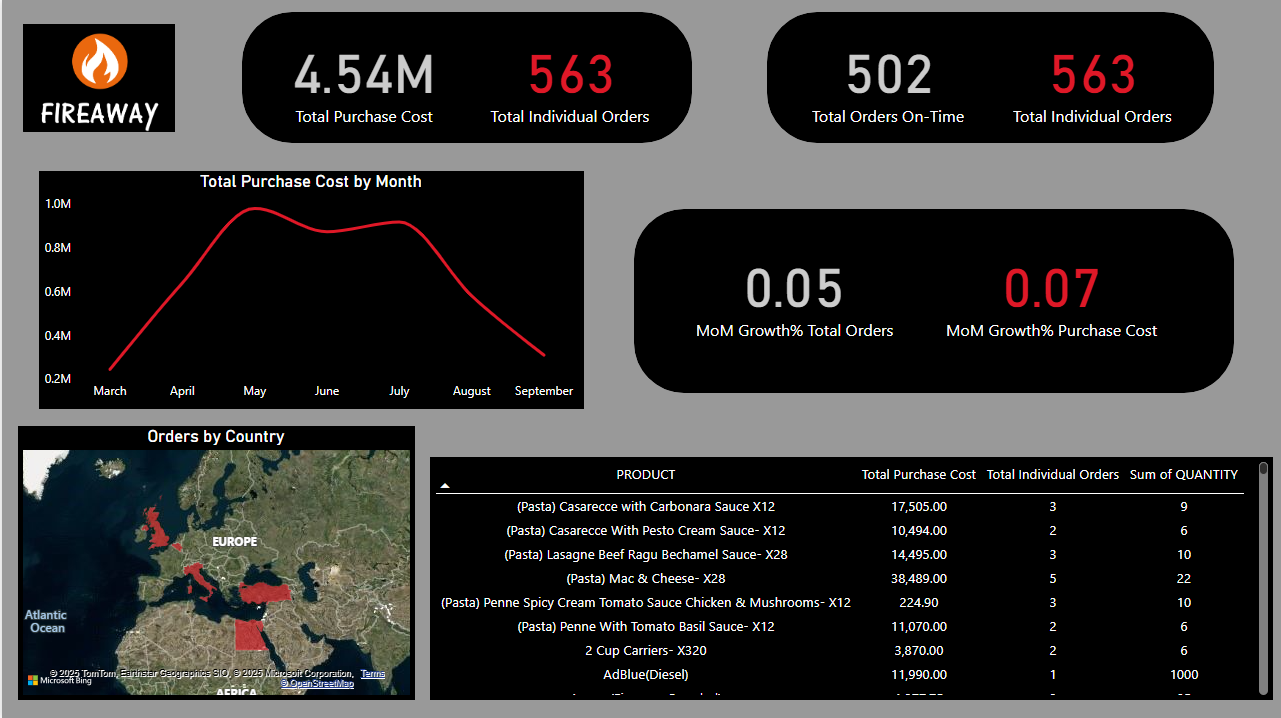

The page's visual inventory and layout, read from the dashboard file:
{"tool":"powerbi","page":{"name":"OVERVIEW","canvas":[1280,720],"ordinal":0},"visuals":[{"type":"shape","box":[240,13,449.8,131.3],"z":0,"group":"g2"},{"type":"shape","box":[765,13,446.5,131.3],"z":0,"group":"g1"},{"type":"lineChart","fields":{"Y":["MeasureTable.Total Price"],"Category":["deliveryScheduleCSV.DATE RECEIVED.Variation.Date Hierarchy.Month"]},"box":[36.7,172.2,545.6,237.8],"z":0},{"type":"shape","box":[632,210,600,184],"z":0,"group":"g3"},{"type":"card","fields":{"Values":["MeasureTable.Total Price"]},"box":[258.9,24.9,206,106.7],"z":1000,"group":"g2"},{"type":"card","fields":{"Values":["MeasureTable.Total Orders On-Time"]},"box":[783.8,24.9,204.5,106.7],"z":1000,"group":"g1"},{"type":"card","fields":{"Values":["MeasureTable.MoM Growth % Total Individual Orders"]},"box":[663.6,238.1,257.4,108.9],"z":1000,"group":"g3"},{"type":"filledMap","title":"Orders by Country","fields":{"Category":["unique_country_of_shipping sheet.COUNTRY OF SHIPPING"]},"box":[15.6,426.7,397.8,274.4],"z":1000},{"type":"image","box":[15.6,0,162.2,156.7],"z":2000},{"type":"card","fields":{"Values":["MeasureTable.Total Individual Orders"]},"box":[464.9,24.9,206,106.7],"z":2000,"group":"g2"},{"type":"card","fields":{"Values":["MeasureTable.Total Individual Orders"]},"box":[988.3,24.9,204.5,106.7],"z":2000,"group":"g1"},{"type":"card","fields":{"Values":["MeasureTable.MoM Growth % Total Purchase Cost"]},"box":[921,238.1,257.4,108.9],"z":2000,"group":"g3"},{"type":"group","id":"g1","title":"Group 1","box":[765,13,448,130],"z":3000},{"type":"group","id":"g2","title":"Group 1","box":[240,13,450,130],"z":4000},{"type":"tableEx","fields":{"Values":["unique_product sheet.PRODUCT","MeasureTable.Total Price","MeasureTable.Total Individual Orders","Sum(deliveryScheduleCSV.QUANTITY)"]},"box":[427.8,457.8,843.3,243.3],"z":5000},{"type":"group","id":"g3","title":"Group 1","box":[632,210,600,184],"z":6000}]}

Visuals, with their boxes in screenshot pixels (x1, y1, x2, y2), scaled from the page's 1280x720 canvas onto the 1281x718 screenshot:
shape: (left=240, top=13, right=690, bottom=144)
shape: (left=766, top=13, right=1212, bottom=144)
lineChart - MeasureTable.Total Price x deliveryScheduleCSV.DATE RECEIVED.Variation.Date Hierarchy.Month: (left=37, top=172, right=583, bottom=409)
shape: (left=632, top=209, right=1233, bottom=393)
card - MeasureTable.Total Price: (left=259, top=25, right=465, bottom=131)
card - MeasureTable.Total Orders On-Time: (left=784, top=25, right=989, bottom=131)
card - MeasureTable.MoM Growth % Total Individual Orders: (left=664, top=237, right=922, bottom=346)
"Orders by Country" filledMap: (left=16, top=426, right=414, bottom=699)
image: (left=16, top=0, right=178, bottom=156)
card - MeasureTable.Total Individual Orders: (left=465, top=25, right=671, bottom=131)
card - MeasureTable.Total Individual Orders: (left=989, top=25, right=1194, bottom=131)
card - MeasureTable.MoM Growth % Total Purchase Cost: (left=922, top=237, right=1179, bottom=346)
"Group 1" group: (left=766, top=13, right=1214, bottom=143)
"Group 1" group: (left=240, top=13, right=691, bottom=143)
tableEx - unique_product sheet.PRODUCT x MeasureTable.Total Price: (left=428, top=457, right=1272, bottom=699)
"Group 1" group: (left=632, top=209, right=1233, bottom=393)
